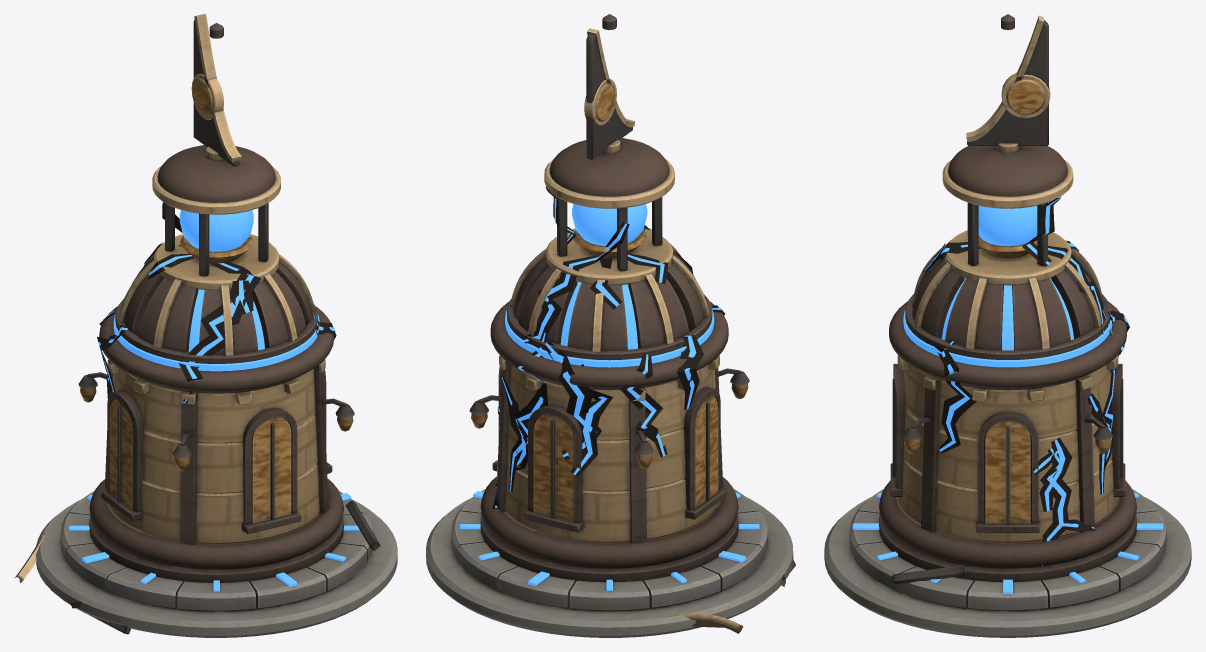
File: needle_outer_serenade.glb
3 renders of one model, left to right at view 1: azimuth 30°, elevation 25°; view 2: azimuth 150°, elevation 25°; view 3: azimuth 270°, elevation 25°, orthographic.
Parts seen in each view (by area): view 1: needle_outer_serenade_upper, needle_outer_serenade_base, needle_outer_serenade_dmg1, needle_outer_serenade_glow.001, needle_outer_serenade_core, needle_outer_serenade_ruin, needle_outer_serenade_chip1, needle_outer_serenade_chip2, needle_outer_serenade_glow_base; view 2: needle_outer_serenade_upper, needle_outer_serenade_base, needle_outer_serenade_dmg2, needle_outer_serenade_dmg1, needle_outer_serenade_glow.001, needle_outer_serenade_core, needle_outer_serenade_chip2, needle_outer_serenade_ruin, needle_outer_serenade_glow_base, needle_outer_serenade_chip1; view 3: needle_outer_serenade_upper, needle_outer_serenade_base, needle_outer_serenade_dmg2, needle_outer_serenade_glow.001, needle_outer_serenade_core, needle_outer_serenade_chip1, needle_outer_serenade_chip2, needle_outer_serenade_ruin, needle_outer_serenade_dmg1, needle_outer_serenade_glow_base.
Part boxes in pixels (bbox=[...]): needle_outer_serenade_upper: bbox=[78, 14, 354, 582]; needle_outer_serenade_base: bbox=[36, 491, 397, 637]; needle_outer_serenade_dmg1: bbox=[97, 202, 261, 403]; needle_outer_serenade_glow.001: bbox=[113, 289, 319, 371]; needle_outer_serenade_core: bbox=[179, 210, 253, 251]; needle_outer_serenade_ruin: bbox=[15, 472, 380, 634]; needle_outer_serenade_chip1: bbox=[191, 23, 325, 373]; needle_outer_serenade_chip2: bbox=[133, 146, 222, 393]; needle_outer_serenade_glow_base: bbox=[68, 493, 359, 591]; needle_outer_serenade_upper: bbox=[469, 28, 749, 582]; needle_outer_serenade_base: bbox=[426, 489, 793, 637]; needle_outer_serenade_dmg2: bbox=[492, 187, 667, 508]; needle_outer_serenade_dmg1: bbox=[523, 222, 725, 459]; needle_outer_serenade_glow.001: bbox=[505, 281, 714, 367]; needle_outer_serenade_core: bbox=[572, 204, 647, 245]; needle_outer_serenade_chip2: bbox=[510, 139, 719, 401]; needle_outer_serenade_ruin: bbox=[494, 470, 795, 633]; needle_outer_serenade_glow_base: bbox=[459, 491, 759, 590]; needle_outer_serenade_chip1: bbox=[499, 14, 680, 390]; needle_outer_serenade_upper: bbox=[879, 15, 1136, 581]; needle_outer_serenade_base: bbox=[824, 489, 1191, 637]; needle_outer_serenade_dmg2: bbox=[932, 197, 1124, 566]; needle_outer_serenade_glow.001: bbox=[903, 278, 1112, 367]; needle_outer_serenade_core: bbox=[978, 205, 1037, 246]; needle_outer_serenade_chip1: bbox=[914, 14, 1118, 401]; needle_outer_serenade_chip2: bbox=[967, 143, 1101, 349]; needle_outer_serenade_ruin: bbox=[892, 491, 1123, 584]; needle_outer_serenade_dmg1: bbox=[922, 202, 1129, 356]; needle_outer_serenade_glow_base: bbox=[852, 492, 1163, 594].
Size of the model in its own units: 2.87 by 4.64 by 2.79.
Materials: 4 (1 with a texture image).
